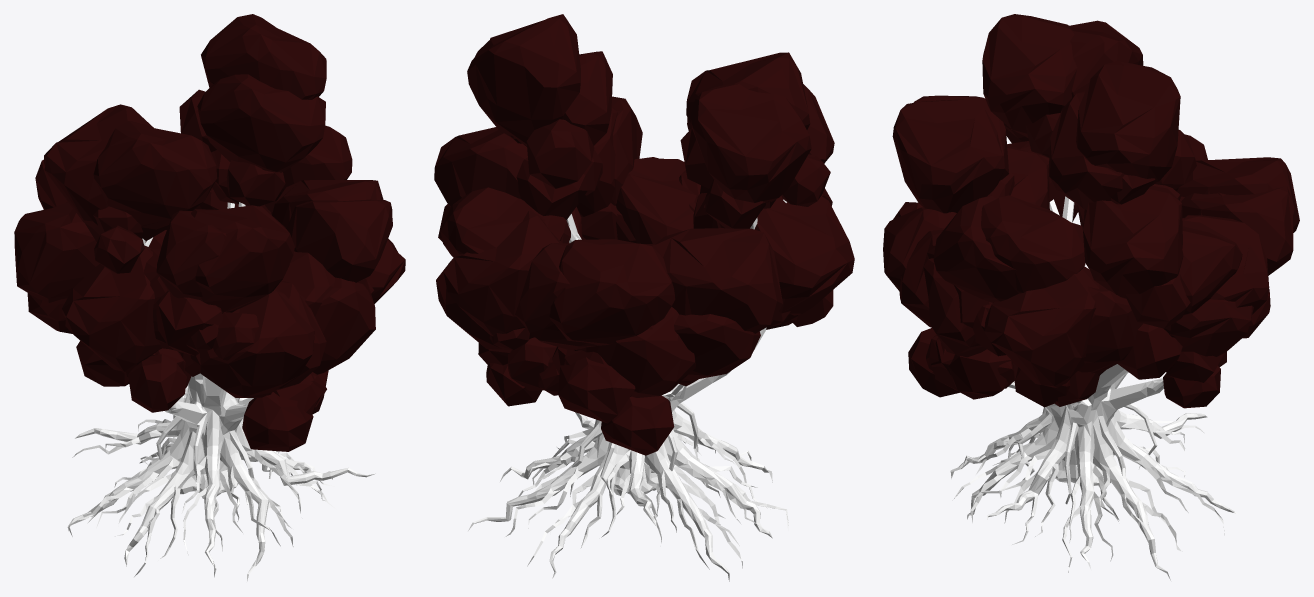
File: TreeKapokier04.fbx
The picture shows the model from 3 angles, left to right: view 1: azimuth 30°, elevation 25°; view 2: azimuth 150°, elevation 25°; view 3: azimuth 270°, elevation 25°; orthographic projection. The views are drawn at different scales.
Visible parts, largest first — view 1: TreeKapokier04_LOD0; view 2: TreeKapokier04_LOD0; view 3: TreeKapokier04_LOD0.
Boxes of the visible parts, box(x1,y1,x2,y2) form: TreeKapokier04_LOD0: box(14, 14, 405, 580); TreeKapokier04_LOD0: box(434, 14, 854, 581); TreeKapokier04_LOD0: box(883, 14, 1299, 580).
Size of what is drawn, in the model's own units: 2288 by 3139 by 2377.
